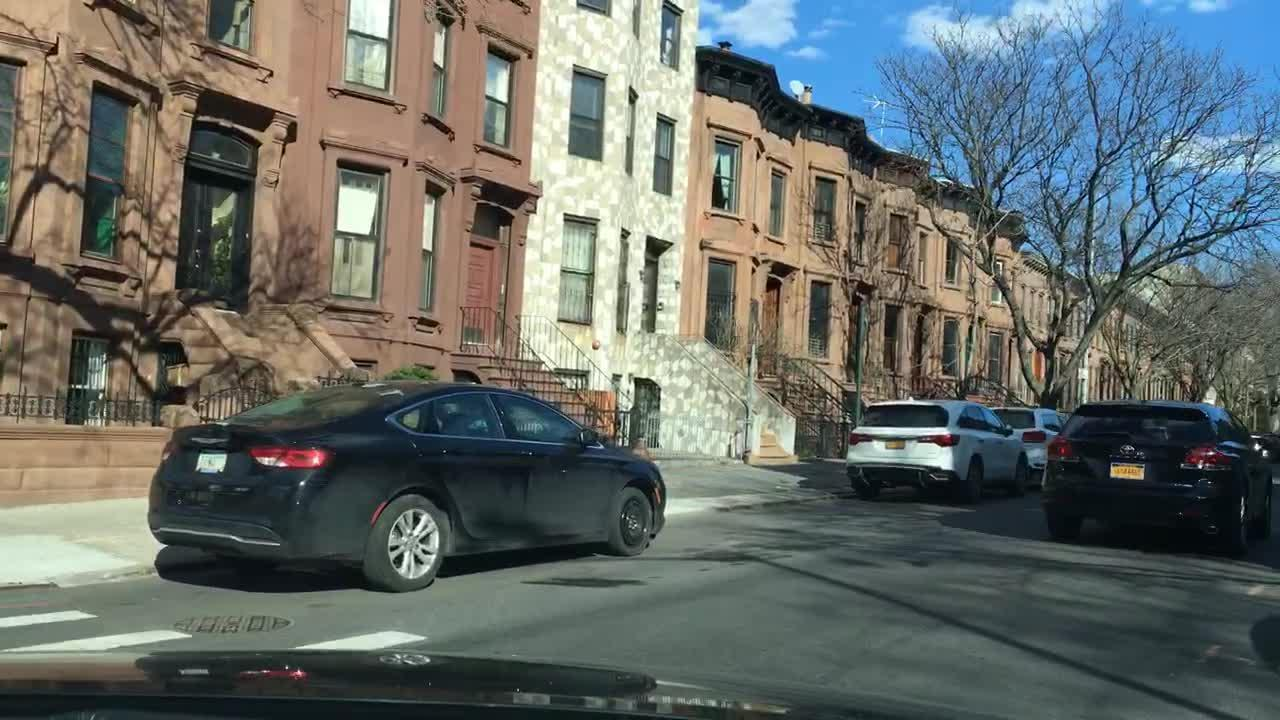Chrysler: (183, 429, 232, 452)
Toyota: (1120, 444, 1137, 457)
